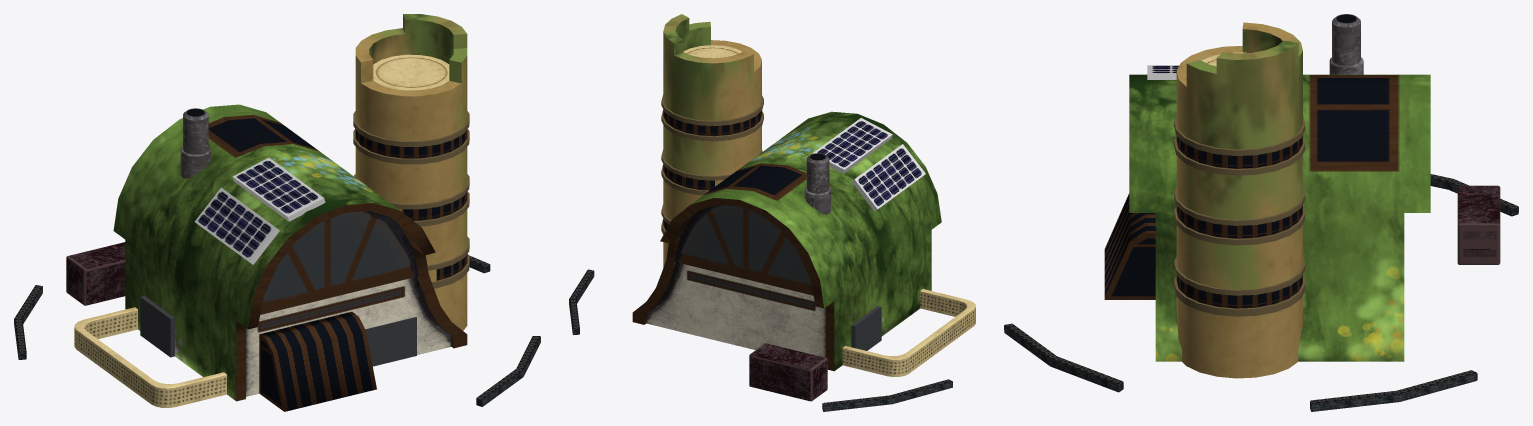
Rendered from stronghold_unity.fbx.
The picture shows the model from 3 angles, left to right: view 1: azimuth 30°, elevation 25°; view 2: azimuth 150°, elevation 25°; view 3: azimuth 270°, elevation 25°; orthographic projection. The views are drawn at different scales.
Visible parts, largest first — view 1: stronghold_unity; view 2: stronghold_unity; view 3: stronghold_unity.
Part boxes in pixels (<box>): stronghold_unity: <box>14,14,540,411</box>; stronghold_unity: <box>569,14,975,411</box>; stronghold_unity: <box>1004,14,1518,411</box>.
Bounding box in the file's own units: 23.12 × 14.13 × 20.69.
Materials: 1 (1 with a texture image).
